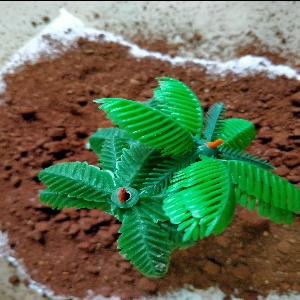plant: (38, 75, 300, 280)
